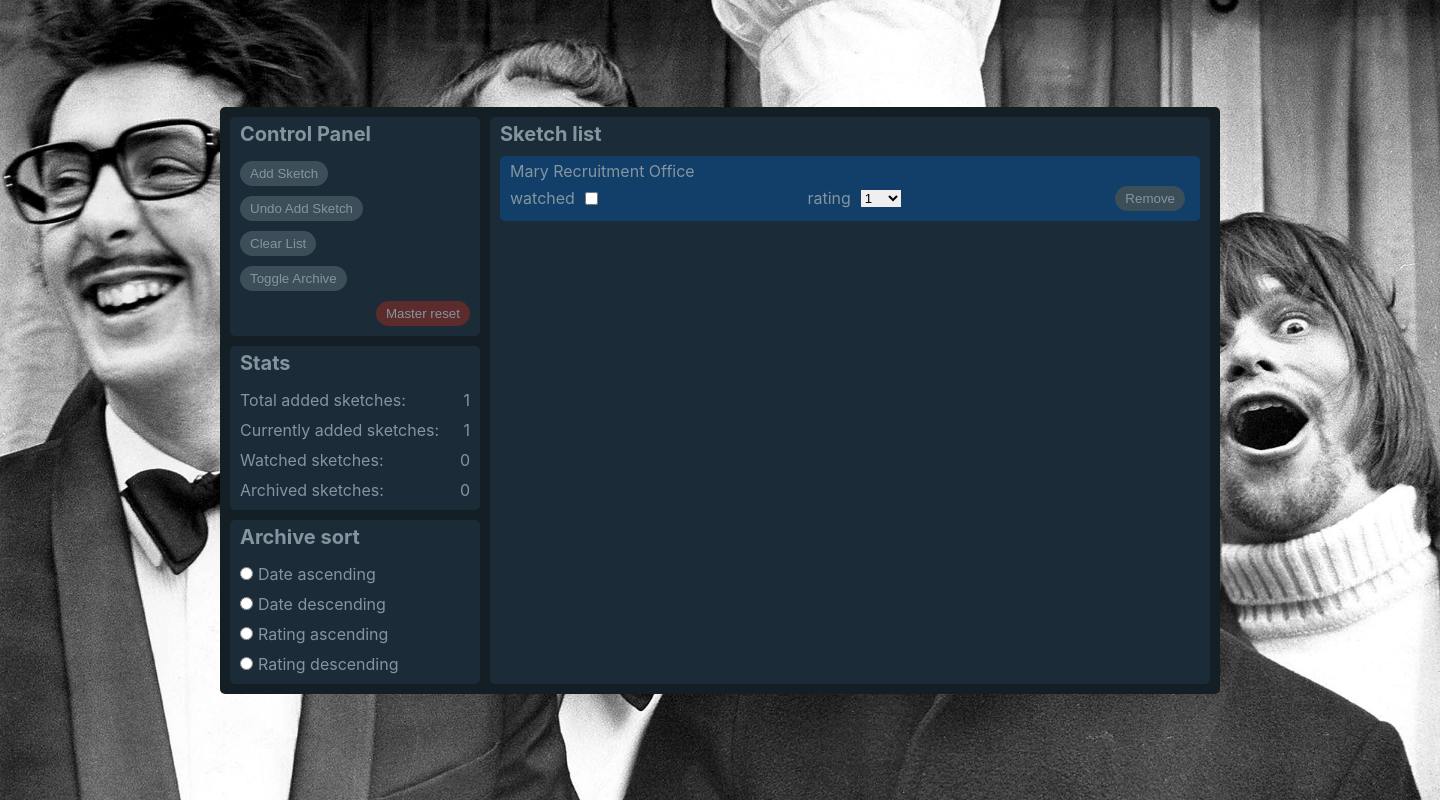
Scenario: Sketch Item › Clicking "Add to Archive" should move the sketch to archive list
Click the button "Master reset" at [423, 314], box x1=376 y1=301 x2=470 y2=326
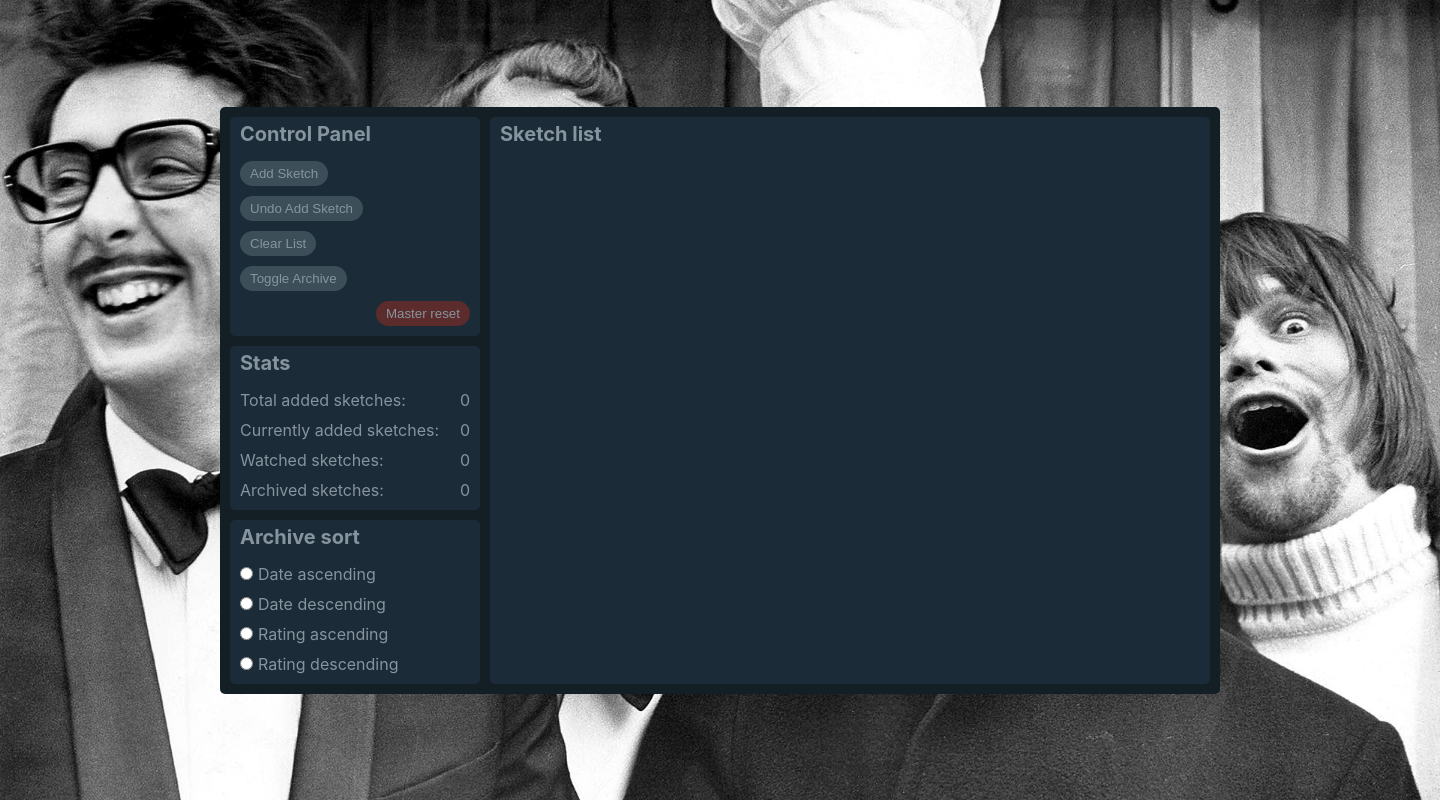
Click the button "Add Sketch" at [284, 174], box x1=240 y1=161 x2=328 y2=186
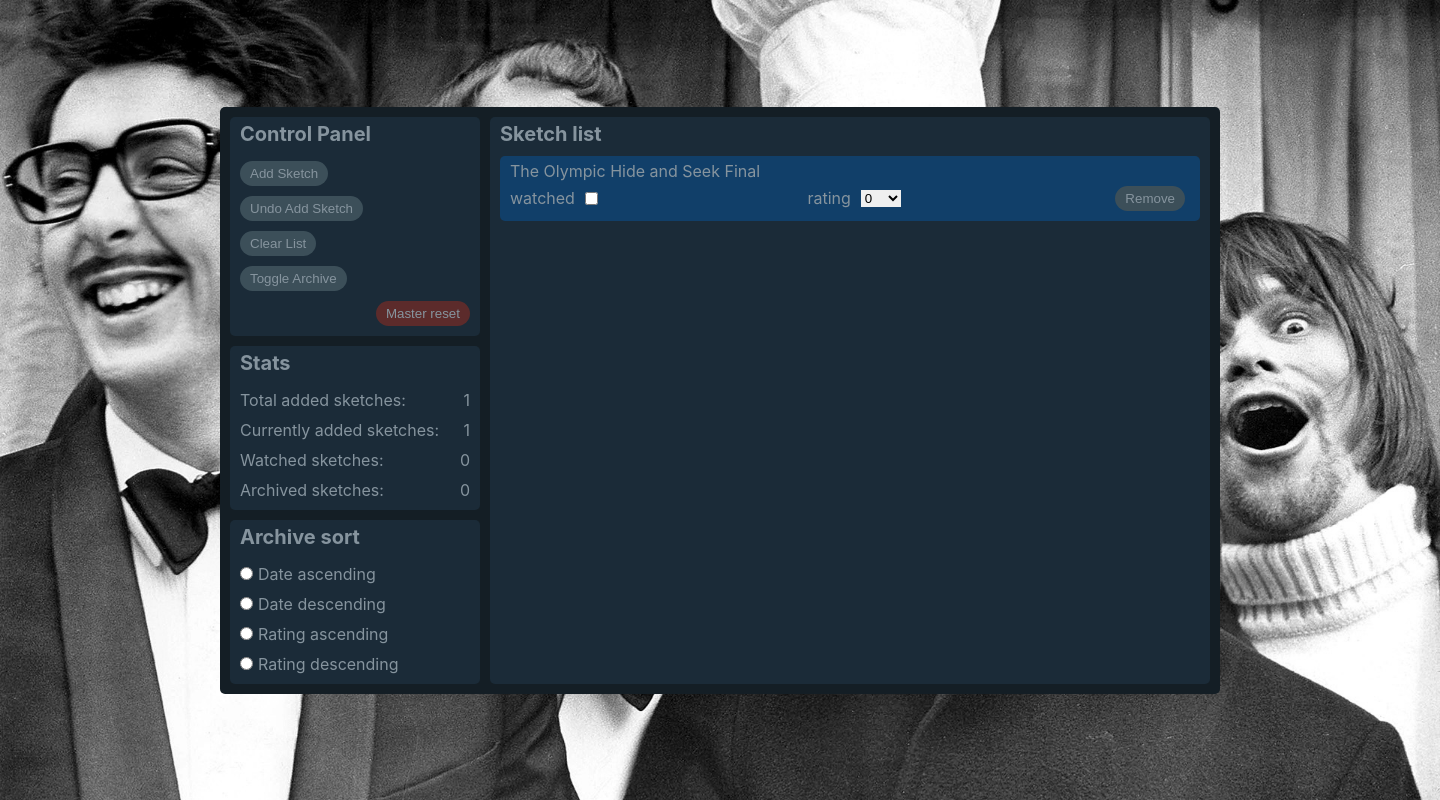
Select "3" in the dropdown with test id "rating-select" at [881, 199], box x1=861 y1=190 x2=901 y2=207
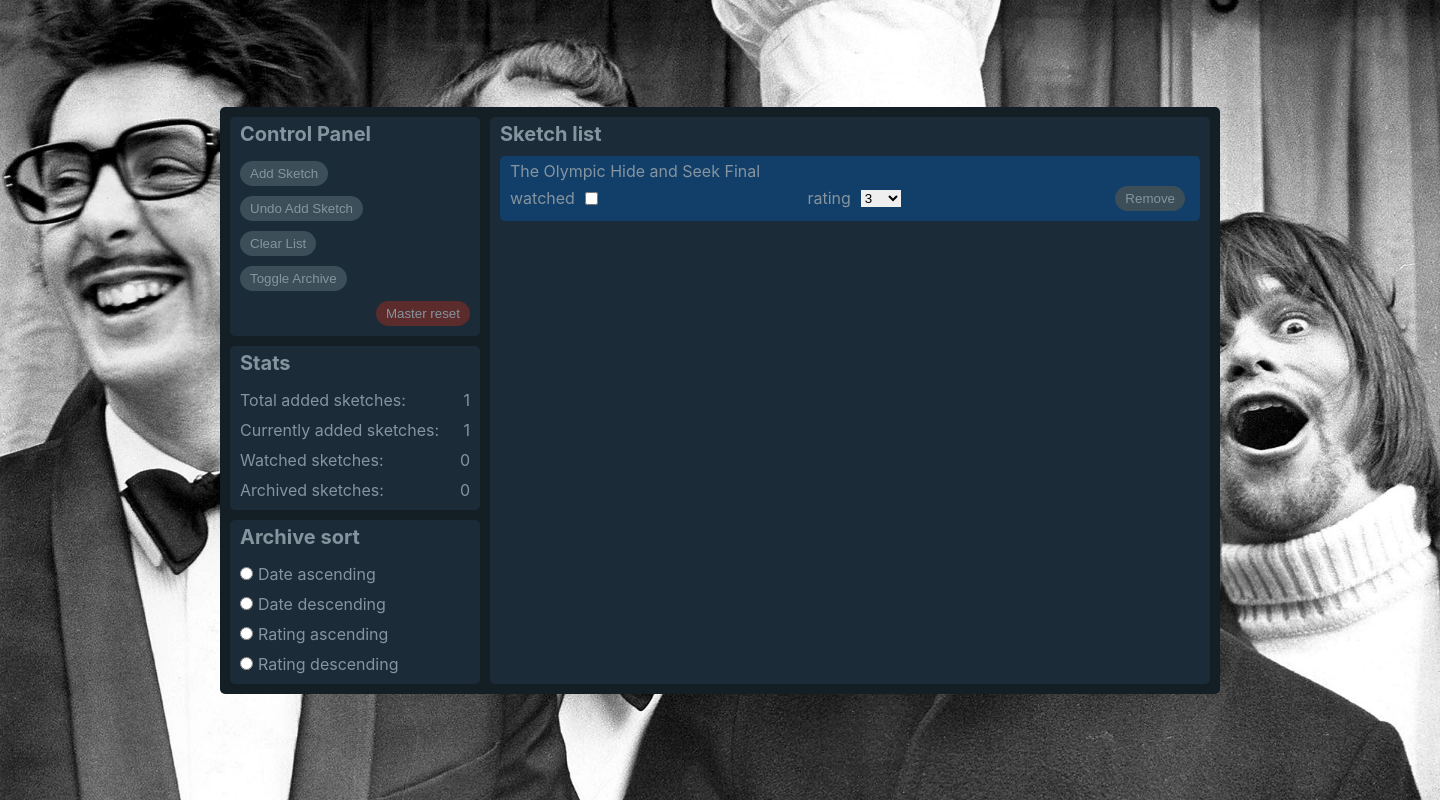
Check the checkbox labelled "watched" at [592, 199], box x1=585 y1=192 x2=598 y2=205
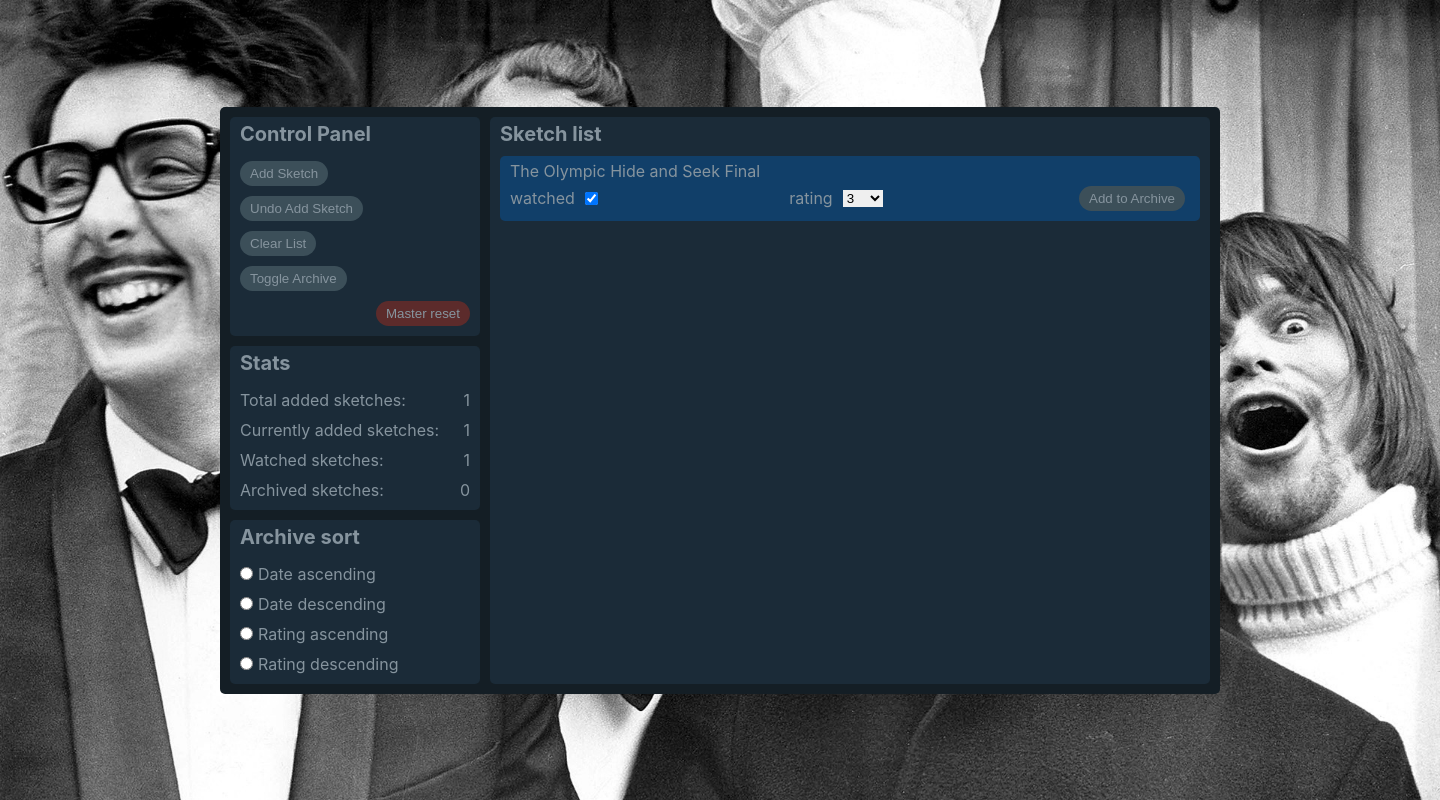
Click the button "Add to Archive" at [1132, 199], box x1=1079 y1=186 x2=1185 y2=211
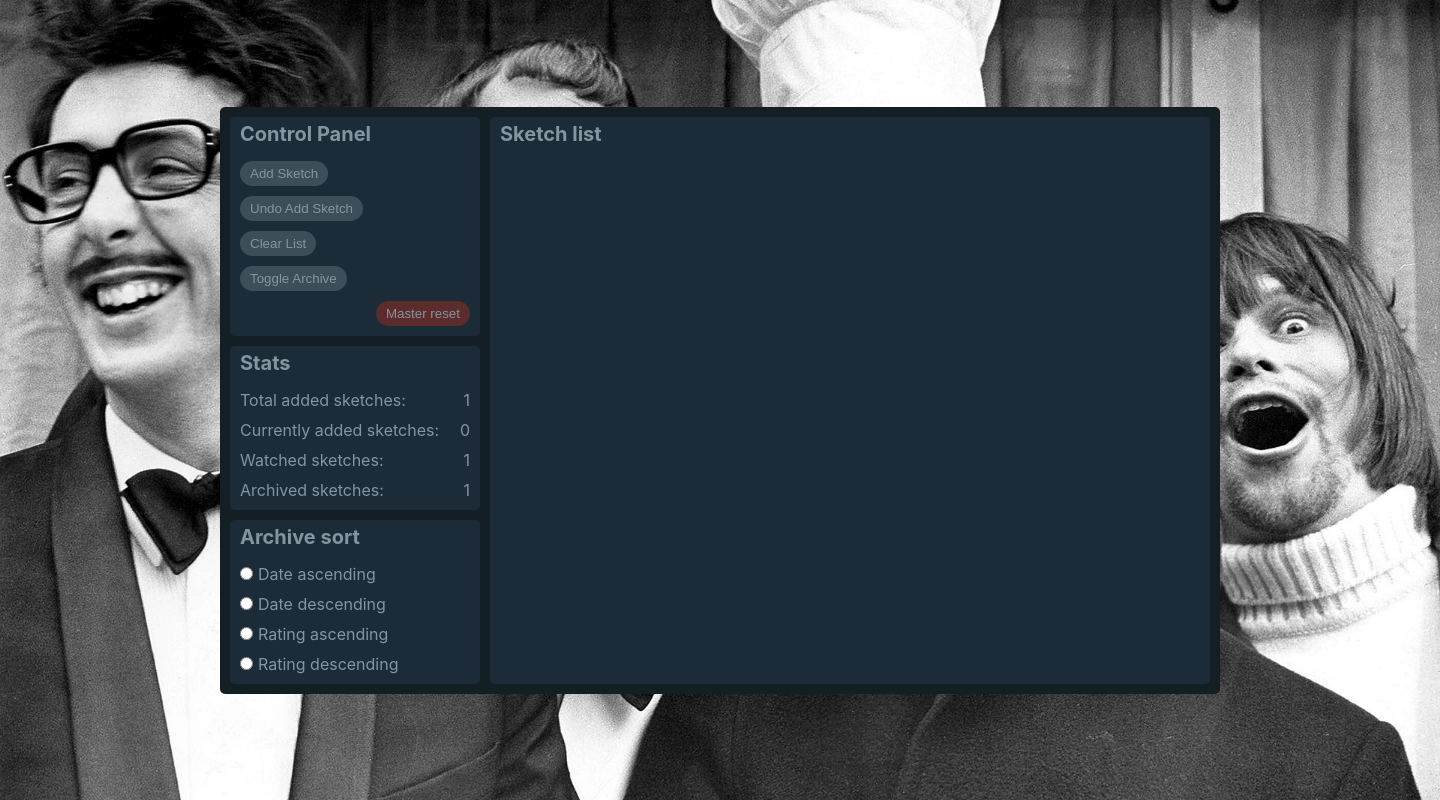
Click the button "Toggle Archive" at [294, 279], box x1=240 y1=266 x2=347 y2=291
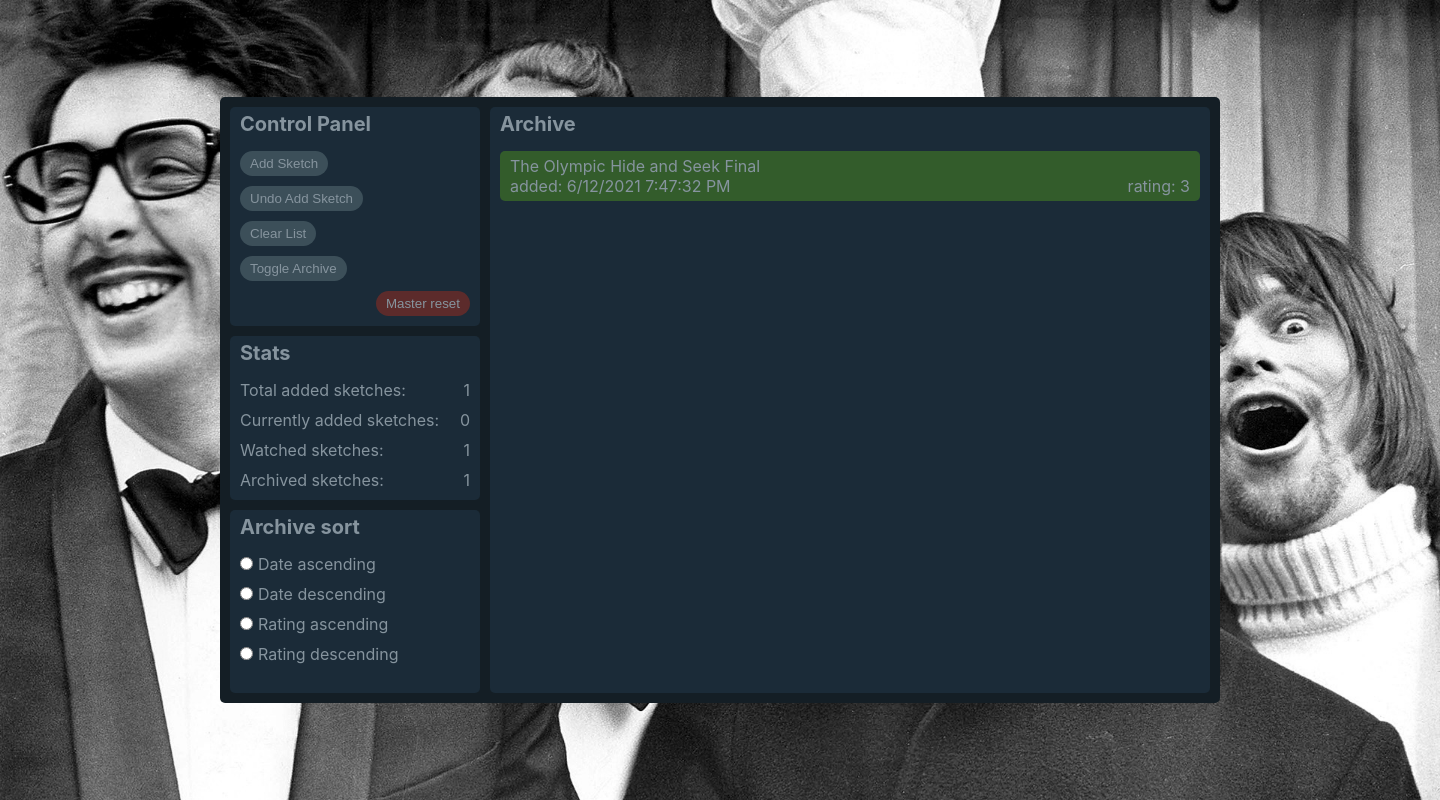
Result: the number of list items is 1 at x1=500 y1=151 x2=1200 y2=201
